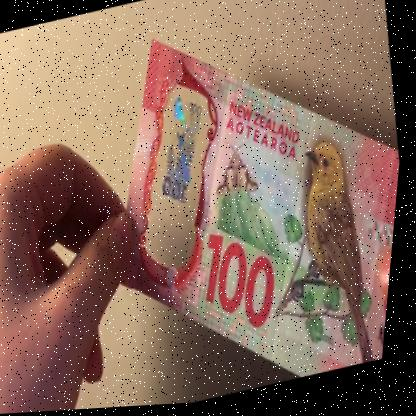100B: (142, 89, 228, 217)
